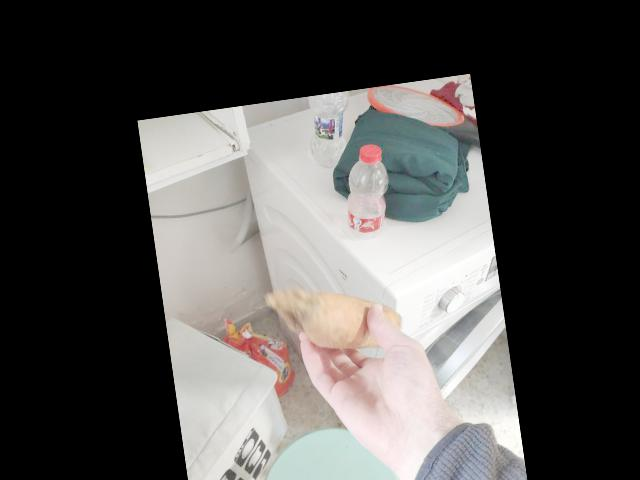sweet_potato: (300, 284, 389, 352)
